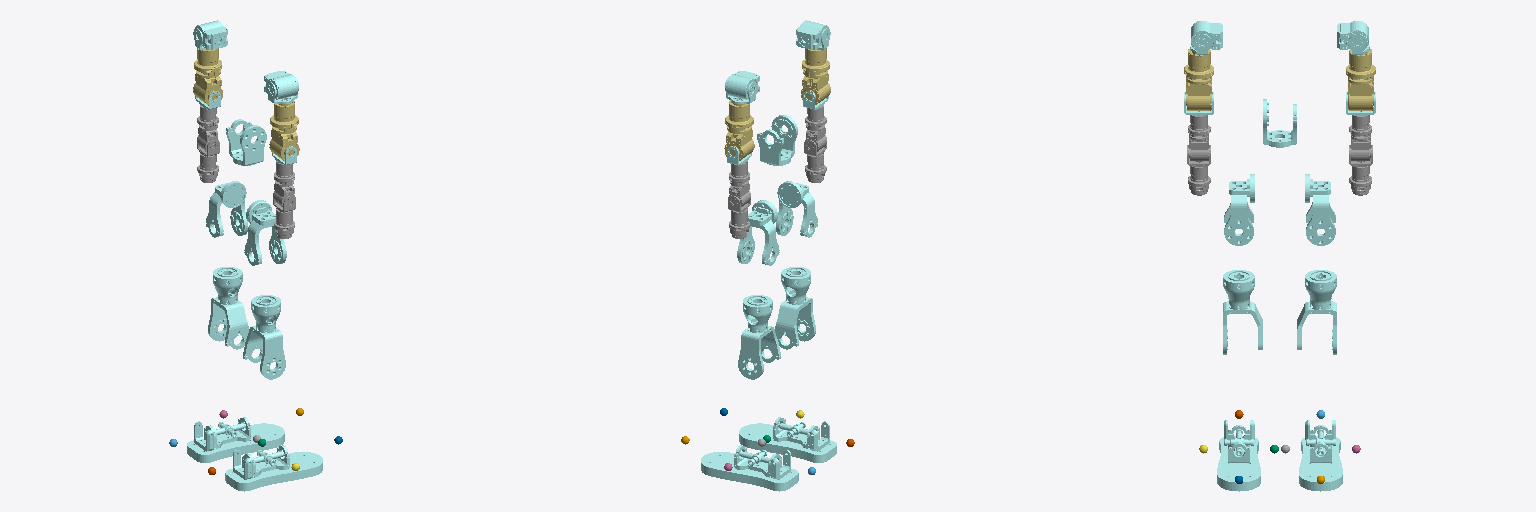
--- What the picture shows (computed from the rendered views, not written in the file) ---
3 views of the same robot in one strip: view 1: azimuth 30°, elevation 25°; view 2: azimuth 150°, elevation 25°; view 3: azimuth 270°, elevation 25° (orthographic).
Robot: ymboy-24dof — 56 links, 55 joints (24 revolute, 31 fixed); root link pelvis; default pose: all joints at 0.
Links seen in each view (by area): view 1: right_ankle_roll_link, left_ankle_roll_link, right_hip_yaw_link, left_hip_yaw_link, left_hip_pitch_link, right_hip_pitch_link, right_wrist_yaw_link, left_wrist_yaw_link, waist_yaw_link, right_shoulder_yaw_link, left_shoulder_yaw_link, right_shoulder_pitch_link (+1 smaller); view 2: left_ankle_roll_link, right_ankle_roll_link, left_hip_yaw_link, right_hip_yaw_link, right_hip_pitch_link, left_hip_pitch_link, waist_yaw_link, left_wrist_yaw_link, right_wrist_yaw_link, left_shoulder_yaw_link, right_shoulder_yaw_link, right_shoulder_pitch_link (+1 smaller); view 3: left_ankle_roll_link, right_ankle_roll_link, left_hip_yaw_link, right_hip_yaw_link, left_hip_pitch_link, right_hip_pitch_link, left_wrist_yaw_link, right_wrist_yaw_link, left_shoulder_yaw_link, right_shoulder_yaw_link, waist_yaw_link, left_shoulder_pitch_link (+1 smaller).
Boxes of the visible links, bbox=[...] form: right_ankle_roll_link: bbox=[225, 445, 322, 491]; left_ankle_roll_link: bbox=[187, 417, 284, 462]; right_hip_yaw_link: bbox=[243, 295, 285, 379]; left_hip_yaw_link: bbox=[208, 267, 248, 349]; left_hip_pitch_link: bbox=[206, 181, 247, 237]; right_hip_pitch_link: bbox=[244, 200, 286, 265]; right_wrist_yaw_link: bbox=[273, 161, 295, 238]; left_wrist_yaw_link: bbox=[197, 105, 219, 182]; waist_yaw_link: bbox=[226, 119, 266, 165]; right_shoulder_yaw_link: bbox=[269, 99, 299, 160]; left_shoulder_yaw_link: bbox=[193, 48, 222, 105]; right_shoulder_pitch_link: bbox=[264, 71, 297, 99]; left_ankle_roll_link: bbox=[701, 445, 798, 491]; right_ankle_roll_link: bbox=[739, 417, 836, 462]; left_hip_yaw_link: bbox=[738, 295, 780, 379]; right_hip_yaw_link: bbox=[775, 267, 815, 349]; right_hip_pitch_link: bbox=[776, 181, 817, 237]; left_hip_pitch_link: bbox=[737, 200, 779, 265]; waist_yaw_link: bbox=[757, 115, 797, 165]; left_wrist_yaw_link: bbox=[728, 161, 750, 238]; right_wrist_yaw_link: bbox=[804, 105, 826, 182]; left_shoulder_yaw_link: bbox=[724, 99, 754, 160]; right_shoulder_yaw_link: bbox=[801, 48, 830, 104]; right_shoulder_pitch_link: bbox=[796, 20, 828, 49]; left_ankle_roll_link: bbox=[1299, 420, 1342, 491]; right_ankle_roll_link: bbox=[1217, 420, 1260, 491]; left_hip_yaw_link: bbox=[1297, 270, 1336, 354]; right_hip_yaw_link: bbox=[1223, 270, 1262, 354]; left_hip_pitch_link: bbox=[1305, 174, 1335, 245]; right_hip_pitch_link: bbox=[1224, 174, 1254, 245]; left_wrist_yaw_link: bbox=[1349, 115, 1372, 195]; right_wrist_yaw_link: bbox=[1187, 115, 1210, 195]; left_shoulder_yaw_link: bbox=[1346, 49, 1375, 110]; right_shoulder_yaw_link: bbox=[1184, 49, 1213, 110]; waist_yaw_link: bbox=[1263, 99, 1296, 147]; left_shoulder_pitch_link: bbox=[1337, 21, 1368, 49].
Bounding box of the posed robot: 0.37 × 0.4335 × 1.09 m (x, y, z).
19 mesh visuals loaded from 25 distinct referenced files (19 binary STL); not drawn: 6 (reference not matched to a file when rendering).

robot.urdf — ymboy-24dof:
<?xml version="1.0" encoding="utf-8"?>
<robot
  name="ymboy-24dof">
  <mujoco>
    <compiler meshdir="../meshes/" discardvisual="false"/>
  </mujoco>
  <link
    name="pelvis">
    <inertial>
      <origin
        xyz="-3.3339E-05 -1.0813E-06 0.091155"
        rpy="0 0 0" />
      <mass
        value="2.8438" />
      <inertia
        ixx="0.01047867"
        ixy="-8E-08"
        ixz="3.95E-06"
        iyy="0.00941324"
        iyz="1.3E-07"
        izz="0.00564707" />
    </inertial>
    <visual>
      <origin
        xyz="0 0 0"
        rpy="0 0 0" />
      <geometry>
        <mesh
          filename="../meshes/pelvis.STL" />
      </geometry>
      <material
        name="">
        <color
          rgba="0.75294 1 1 1" />
      </material>
    </visual>
    <collision>
      <origin
        xyz="0 0 0"
        rpy="0 0 0" />
      <geometry>
        <mesh
          filename="../meshes/pelvis.STL" />
      </geometry>
    </collision>
  </link>
  <link
    name="left_hip_pitch_link">
    <inertial>
      <origin
        xyz="0.0026859 0.030181 -0.038307"
        rpy="0 0 0" />
      <mass
        value="0.47307" />
      <inertia
        ixx="0.00092108"
        ixy="-8.03E-06"
        ixz="8.425E-05"
        iyy="0.00111312"
        iyz="0.0001145"
        izz="0.00048142" />
    </inertial>
    <visual>
      <origin
        xyz="0 0 0"
        rpy="0 0 0" />
      <geometry>
        <mesh
          filename="../meshes/left_hip_pitch_link.STL" />
      </geometry>
      <material
        name="">
        <color
          rgba="0.75294 1 1 1" />
      </material>
    </visual>
    <collision>
      <origin
        xyz="0 0 0"
        rpy="0 0 0" />
      <geometry>
        <mesh
          filename="../meshes/left_hip_pitch_link.STL" />
      </geometry>
    </collision>
  </link>
  <joint
    name="left_hip_pitch_joint"
    type="revolute">
    <origin
      xyz="0 0.056 0.0605"
      rpy="0 0 0" />
    <parent
      link="pelvis" />
    <child
      link="left_hip_pitch_link" />
    <axis
      xyz="0 1 0" />
    <limit
      lower="-2.5"
      upper="2.5"
      effort="94"
      velocity="14" />
  </joint>
  <link
    name="left_hip_roll_link">
    <inertial>
      <origin
        xyz="0.00077985 -7.5152E-06 -0.043617"
        rpy="0 0 0" />
      <mass
        value="1.7024" />
      <inertia
        ixx="0.00593201"
        ixy="-2.4E-07"
        ixz="7.611E-05"
        iyy="0.00560799"
        iyz="-2.1E-07"
        izz="0.00196237" />
    </inertial>
    <visual>
      <origin
        xyz="0 0 0"
        rpy="0 0 0" />
      <geometry>
        <mesh
          filename="../meshes/left_hip_roll_link.STL" />
      </geometry>
      <material
        name="">
        <color
          rgba="0.69804 0.69804 0.69804 1" />
      </material>
    </visual>
    <collision>
      <origin
        xyz="0 0 0"
        rpy="0 0 0" />
      <geometry>
        <mesh
          filename="../meshes/left_hip_roll_link.STL" />
      </geometry>
    </collision>
  </link>
  <joint
    name="left_hip_roll_joint"
    type="revolute">
    <origin
      xyz="0 0.0365 -0.092"
      rpy="0 0 0" />
    <parent
      link="left_hip_pitch_link" />
    <child
      link="left_hip_roll_link" />
    <axis
      xyz="1 0 0" />
    <limit
      lower="-0.5"
      upper="2.5"
      effort="94"
      velocity="14" />
  </joint>
  <link
    name="left_hip_yaw_link">
    <inertial>
      <origin
        xyz="7.7235E-09 -0.00090373 -0.083991"
        rpy="0 0 0" />
      <mass
        value="0.61055" />
      <inertia
        ixx="0.00236125"
        ixy="0"
        ixz="0"
        iyy="0.00202273"
        iyz="6.56E-06"
        izz="0.00073247" />
    </inertial>
    <visual>
      <origin
        xyz="0 0 0"
        rpy="0 0 0" />
      <geometry>
        <mesh
          filename="../meshes/left_hip_yaw_link.STL" />
      </geometry>
      <material
        name="">
        <color
          rgba="0.75294 1 1 1" />
      </material>
    </visual>
    <collision>
      <origin
        xyz="0 0 0"
        rpy="0 0 0" />
      <geometry>
        <mesh
          filename="../meshes/left_hip_yaw_link.STL" />
      </geometry>
    </collision>
  </link>
  <joint
    name="left_hip_yaw_joint"
    type="revolute">
    <origin
      xyz="0.00175 0 -0.1245"
      rpy="0 0 0" />
    <parent
      link="left_hip_roll_link" />
    <child
      link="left_hip_yaw_link" />
    <axis
      xyz="0 0 1" />
    <limit
      lower="-2.5"
      upper="2.5"
      effort="60"
      velocity="14" />
  </joint>
  <link
    name="left_knee_link">
    <inertial>
      <origin
        xyz="-0.0024699 0.00032626 -0.075501"
        rpy="0 0 0" />
      <mass
        value="2.9443" />
      <inertia
        ixx="0.02349646"
        ixy="3.873E-05"
        ixz="-0.00076052"
        iyy="0.02465377"
        iyz="-0.0001571"
        izz="0.00339227" />
    </inertial>
    <visual>
      <origin
        xyz="0 0 0"
        rpy="0 0 0" />
      <geometry>
        <mesh
          filename="../meshes/left_knee_link.STL" />
      </geometry>
      <material
        name="">
        <color
          rgba="0.69804 0.69804 0.69804 1" />
      </material>
    </visual>
    <collision>
      <origin
        xyz="0 0 0"
        rpy="0 0 0" />
      <geometry>
        <mesh
          filename="../meshes/left_knee_link.STL" />
      </geometry>
    </collision>
  </link>
  <joint
    name="left_knee_joint"
    type="revolute">
    <origin
      xyz="0 0 -0.1605"
      rpy="0 0 0" />
    <parent
      link="left_hip_yaw_link" />
    <child
      link="left_knee_link" />
    <axis
      xyz="0 1 0" />
    <limit
      lower="-2.5"
      upper="2.5"
      effort="150"
      velocity="13" />
  </joint>
  <link
    name="left_ankle_pitch_link">
    <inertial>
      <origin
        xyz="-1.1905E-08 -3.0215E-11 -7.7016E-10"
        rpy="0 0 0" />
      <mass
        value="0.023877" />
      <inertia
        ixx="9.56E-06"
        ixy="0"
        ixz="0"
        iyy="6.2E-07"
        iyz="0"
        izz="9.58E-06" />
    </inertial>
    <visual>
      <origin
        xyz="0 0 0"
        rpy="0 0 0" />
      <geometry>
        <mesh
          filename="../meshes/left_ankle_pitch_link.STL" />
      </geometry>
      <material
        name="">
        <color
          rgba="0.75294 1 1 1" />
      </material>
    </visual>
    <!-- <collision>
      <origin
        xyz="0 0 0"
        rpy="0 0 0" />
      <geometry>
        <mesh
          filename="../meshes/left_ankle_pitch_link.STL" />
      </geometry>
    </collision> -->
  </link>
  <joint
    name="left_ankle_pitch_joint"
    type="revolute">
    <origin
      xyz="-4.3311E-05 0 -0.257"
      rpy="0 0.00016853 0" />
    <parent
      link="left_knee_link" />
    <child
      link="left_ankle_pitch_link" />
    <axis
      xyz="0 1 0" />
    <limit
      lower="-0.55"
      upper="0.55"
      effort="60"
      velocity="8" />
  </joint>
  <link
    name="left_ankle_roll_link">
    <inertial>
      <origin
        xyz="0.016184 -9.3563E-10 -0.033038"
        rpy="0 0 0" />
      <mass
        value="1.1614" />
      <inertia
        ixx="0.00090303"
        ixy="0"
        ixz="0.00023861"
        iyy="0.0053827"
        iyz="0"
        izz="0.00583125" />
    </inertial>
    <visual>
      <origin
        xyz="0 0 0"
        rpy="0 0 0" />
      <geometry>
        <mesh
          filename="../meshes/left_ankle_roll_link.STL" />
      </geometry>
      <material
        name="">
        <color
          rgba="0.75294 1 1 1" />
      </material>
    </visual>
    <!-- <collision>
      <origin
        xyz="0 0 0"
        rpy="0 0 0" />
      <geometry>
        <mesh
          filename="../meshes/left_ankle_roll_link.STL" />
      </geometry>
    </collision> -->
    <collision>
      <origin xyz="-0.05 0.05 -0.04" rpy="0 0 0"/>
      <geometry>
        <sphere radius="0.005"/>
      </geometry>
    </collision>
    <collision>
      <origin xyz="-0.05 -0.05 -0.04" rpy="0 0 0"/>
      <geometry>
        <sphere radius="0.005"/>
      </geometry>
    </collision>
    <collision>
      <origin xyz="0.12 0.055 -0.04" rpy="0 0 0"/>
      <geometry>
        <sphere radius="0.005"/>
      </geometry>
    </collision>
    <collision>
      <origin xyz="0.12 -0.055 -0.04" rpy="0 0 0"/>
      <geometry>
        <sphere radius="0.005"/>
      </geometry>
    </collision>
    <collision>
      <origin xyz="0.05 -0.06 -0.04" rpy="0 0 0"/>
      <geometry>
        <sphere radius="0.005"/>
      </geometry>
    </collision>
    <collision>
      <origin xyz="0.05 0.06 -0.04" rpy="0 0 0"/>
      <geometry>
        <sphere radius="0.005"/>
      </geometry>
    </collision>

    <collision>
      <origin xyz="0.14 -0.0 -0.04" rpy="0 0 0"/>
      <geometry>
        <sphere radius="0.005"/>
      </geometry>
    </collision>
    <collision>
      <origin xyz="-0.11 -0.0 -0.04" rpy="0 0 0"/>
      <geometry>
        <sphere radius="0.005"/>
      </geometry>
    </collision>
    <collision>
      <origin xyz="0.1 -0.0 -0.02" rpy="0 0 0"/>
      <geometry>
        <sphere radius="0.005"/>
      </geometry>
    </collision>

    <collision>
      <origin xyz="0.165 -0.0 -0.04" rpy="0 0 0"/>
      <geometry>
        <sphere radius="0.005"/>
      </geometry>
    </collision>
  </link>
  <joint
    name="left_ankle_roll_joint"
    type="revolute">
    <origin
      xyz="0 0 0"
      rpy="0 0 0" />
    <parent
      link="left_ankle_pitch_link" />
    <child
      link="left_ankle_roll_link" />
    <axis
      xyz="1 0 0" />
    <limit
      lower="-0.25"
      upper="0.25"
      effort="60"
      velocity="8" />
  </joint>
  <link
    name="right_hip_pitch_link">
    <inertial>
      <origin
        xyz="0.0026859 -0.030181 -0.038307"
        rpy="0 0 0" />
      <mass
        value="0.47307" />
      <inertia
        ixx="0.00092108"
        ixy="8.03E-06"
        ixz="8.425E-05"
        iyy="0.00111312"
        iyz="-0.0001145"
        izz="0.00048142" />
    </inertial>
    <visual>
      <origin
        xyz="0 0 0"
        rpy="0 0 0" />
      <geometry>
        <mesh
          filename="../meshes/right_hip_pitch_link.STL" />
      </geometry>
      <material
        name="">
        <color
          rgba="0.75294 1 1 1" />
      </material>
    </visual>
    <collision>
      <origin
        xyz="0 0 0"
        rpy="0 0 0" />
      <geometry>
        <mesh
          filename="../meshes/right_hip_pitch_link.STL" />
      </geometry>
    </collision>
  </link>
  <joint
    name="right_hip_pitch_joint"
    type="revolute">
    <origin
      xyz="0 -0.056 0.0605"
      rpy="0 0 0" />
    <parent
      link="pelvis" />
    <child
      link="right_hip_pitch_link" />
    <axis
      xyz="0 1 0" />
    <limit
      lower="-2.5"
      upper="2.5"
      effort="94"
      velocity="14" />
  </joint>
  <link
    name="right_hip_roll_link">
    <inertial>
      <origin
        xyz="0.00077985 -7.5152E-06 -0.043617"
        rpy="0 0 0" />
      <mass
        value="1.7024" />
      <inertia
        ixx="0.00593201"
        ixy="-2.4E-07"
        ixz="7.611E-05"
        iyy="0.00560799"
        iyz="-2.1E-07"
        izz="0.00196237" />
    </inertial>
    <visual>
      <origin
        xyz="0 0 0"
        rpy="0 0 0" />
      <geometry>
        <mesh
          filename="../meshes/right_hip_roll_link.STL" />
      </geometry>
      <material
        name="">
        <color
          rgba="0.75294 1 1 1" />
      </material>
    </visual>
    <collision>
      <origin
        xyz="0 0 0"
        rpy="0 0 0" />
      <geometry>
        <mesh
          filename="../meshes/right_hip_roll_link.STL" />
      </geometry>
    </collision>
  </link>
  <joint
    name="right_hip_roll_joint"
    type="revolute">
    <origin
      xyz="0 -0.0365 -0.092"
      rpy="0 0 0" />
    <parent
      link="right_hip_pitch_link" />
    <child
      link="right_hip_roll_link" />
    <axis
      xyz="1 0 0" />
    <limit
      lower="-2.5"
      upper="0.5"
      effort="94"
      velocity="14" />
  </joint>
  <link
    name="right_hip_yaw_link">
    <inertial>
      <origin
        xyz="7.8127E-09 0.00090374 -0.083991"
        rpy="0 0 0" />
      <mass
        value="0.61055" />
      <inertia
        ixx="0.00236125"
        ixy="0"
        ixz="0"
        iyy="0.00202273"
        iyz="-6.56E-06"
        izz="0.00073247" />
    </inertial>
    <visual>
      <origin
        xyz="0 0 0"
        rpy="0 0 0" />
      <geometry>
        <mesh
          filename="../meshes/right_hip_yaw_link.STL" />
      </geometry>
      <material
        name="">
        <color
          rgba="0.75294 1 1 1" />
      </material>
    </visual>
    <collision>
      <origin
        xyz="0 0 0"
        rpy="0 0 0" />
      <geometry>
        <mesh
          filename="../meshes/right_hip_yaw_link.STL" />
      </geometry>
    </collision>
  </link>
  <joint
    name="right_hip_yaw_joint"
    type="revolute">
    <origin
      xyz="0.00175 0 -0.1245"
      rpy="0 0 0" />
    <parent
      link="right_hip_roll_link" />
    <child
      link="right_hip_yaw_link" />
    <axis
      xyz="0 0 1" />
    <limit
      lower="-2.5"
      upper="2.5"
      effort="60"
      velocity="13" />
  </joint>
  <link
    name="right_knee_link">
    <inertial>
      <origin
        xyz="-0.0024694 -0.00032626 -0.0755"
        rpy="0 0 0" />
      <mass
        value="2.9443" />
      <inertia
        ixx="0.02349561"
        ixy="-3.885E-05"
        ixz="-0.00076039"
        iyy="0.0246529"
        iyz="0.0001571"
        izz="0.00339225" />
    </inertial>
    <visual>
      <origin
        xyz="0 0 0"
        rpy="0 0 0" />
      <geometry>
        <mesh
          filename="../meshes/right_knee_link.STL" />
      </geometry>
      <material
        name="">
        <color
          rgba="0.69804 0.69804 0.69804 1" />
      </material>
    </visual>
    <collision>
      <origin
        xyz="0 0 0"
        rpy="0 0 0" />
      <geometry>
        <mesh
          filename="../meshes/right_knee_link.STL" />
      </geometry>
    </collision>
  </link>
  <joint
    name="right_knee_joint"
    type="revolute">
    <origin
      xyz="0 0 -0.1605"
      rpy="0 0 0" />
    <parent
      link="right_hip_yaw_link" />
    <child
      link="right_knee_link" />
    <axis
      xyz="0 1 0" />
    <limit
      lower="-2.5"
      upper="2.5"
      effort="150"
      velocity="13" />
  </joint>
  <link
    name="right_ankle_pitch_link">
    <inertial>
      <origin
        xyz="-1.1905E-08 -3.0218E-11 -7.7016E-10"
        rpy="0 0 0" />
      <mass
        value="0.023877" />
      <inertia
        ixx="9.56E-06"
        ixy="0"
        ixz="0"
        iyy="6.2E-07"
        iyz="0"
        izz="9.58E-06" />
    </inertial>
    <visual>
      <origin
        xyz="0 0 0"
        rpy="0 0 0" />
      <geometry>
        <mesh
          filename="../meshes/right_ankle_pitch_link.STL" />
      </geometry>
      <material
        name="">
        <color
          rgba="0.75294 1 1 1" />
      </material>
    </visual>
    <!-- <collision>
      <origin
        xyz="0 0 0"
        rpy="0 0 0" />
      <geometry>
        <mesh
          filename="../meshes/right_ankle_pitch_link.STL" />
      </geometry>
    </collision> -->
  </link>
  <joint
    name="right_ankle_pitch_joint"
    type="revolute">
    <origin
      xyz="-4.3311E-05 0 -0.257"
      rpy="0 0.00016853 0" />
    <parent
      link="right_knee_link" />
    <child
      link="right_ankle_pitch_link" />
    <axis
      xyz="0 1 0" />
    <limit
      lower="-0.55"
      upper="0.55"
      effort="60"
      velocity="8" />
  </joint>
  <link
    name="right_ankle_roll_link">
    <inertial>
      <origin
        xyz="0.016184 -9.3564E-10 -0.033038"
        rpy="0 0 0" />
      <mass
        value="1.1614" />
      <inertia
        ixx="0.00090303"
        ixy="0"
        ixz="0.00023861"
        iyy="0.0053827"
        iyz="0"
        izz="0.00583125" />
    </inertial>
    <visual>
      <origin
        xyz="0 0 0"
        rpy="0 0 0" />
      <geometry>
        <mesh
          filename="../meshes/right_ankle_roll_link.STL" />
      </geometry>
      <material
        name="">
        <color
          rgba="0.75294 1 1 1" />
      </material>
    </visual>
    <!-- <collision>
      <origin
        xyz="0 0 0"
        rpy="0 0 0" />
      <geometry>
        <mesh
          filename="../meshes/right_ankle_roll_link.STL" />
      </geometry>
    </collision> -->
    <collision>
      <origin xyz="-0.05 0.05 -0.04" rpy="0 0 0"/>
      <geometry>
        <sphere radius="0.005"/>
      </geometry>
    </collision>
    <collision>
      <origin xyz="-0.05 -0.05 -0.04" rpy="0 0 0"/>
      <geometry>
        <sphere radius="0.005"/>
      </geometry>
    </collision>
    <collision>
      <origin xyz="0.12 0.055 -0.04" rpy="0 0 0"/>
      <geometry>
        <sphere radius="0.005"/>
      </geometry>
    </collision>
    <collision>
      <origin xyz="0.12 -0.055 -0.04" rpy="0 0 0"/>
      <geometry>
        <sphere radius="0.005"/>
      </geometry>
    </collision>
    <collision>
      <origin xyz="0.05 -0.06 -0.04" rpy="0 0 0"/>
      <geometry>
        <sphere radius="0.005"/>
      </geometry>
    </collision>
    <collision>
      <origin xyz="0.05 0.06 -0.04" rpy="0 0 0"/>
      <geometry>
        <sphere radius="0.005"/>
      </geometry>
    </collision>

    <collision>
      <origin xyz="0.14 -0.0 -0.04" rpy="0 0 0"/>
      <geometry>
        <sphere radius="0.005"/>
      </geometry>
    </collision>
    <collision>
      <origin xyz="-0.11 -0.0 -0.04" rpy="0 0 0"/>
      <geometry>
        <sphere radius="0.005"/>
      </geometry>
    </collision>
    <collision>
      <origin xyz="0.1 -0.0 -0.02" rpy="0 0 0"/>
      <geometry>
        <sphere radius="0.005"/>
      </geometry>
    </collision>

    <collision>
      <origin xyz="0.165 -0.0 -0.04" rpy="0 0 0"/>
      <geometry>
        <sphere radius="0.005"/>
      </geometry>
    </collision>
  </link>
  <joint
    name="right_ankle_roll_joint"
    type="revolute">
    <origin
      xyz="0 0 0"
      rpy="0 0 0" />
    <parent
      link="right_ankle_pitch_link" />
    <child
      link="right_ankle_roll_link" />
    <axis
      xyz="1 0 0" />
    <limit
      lower="-0.25"
      upper="0.25"
      effort="60"
      velocity="8" />
  </joint>
  <link
    name="waist_yaw_link">
    <inertial>
      <origin
        xyz="-8.6742E-09 -0.0035731 0.038467"
        rpy="0 0 0" />
      <mass
        value="0.33855" />
      <inertia
        ixx="0.00059365"
        ixy="0"
        ixz="0"
        iyy="0.00038188"
        iyz="5.297E-05"
        izz="0.00041589" />
    </inertial>
    <visual>
      <origin
        xyz="0 0 0"
        rpy="0 0 0" />
      <geometry>
        <mesh
          filename="../meshes/waist_yaw_link.STL" />
      </geometry>
      <material
        name="">
        <color
          rgba="0.75294 1 1 1" />
      </material>
    </visual>
    <collision>
      <origin
        xyz="0 0 0"
        rpy="0 0 0" />
      <geometry>
        <mesh
          filename="../meshes/waist_yaw_link.STL" />
      </geometry>
    </collision>
  </link>
  <joint
    name="waist_yaw_joint"
    type="revolute">
    <origin
      xyz="0 0 0.177"
      rpy="0 0 0" />
    <parent
      link="pelvis" />
    <child
      link="waist_yaw_link" />
    <axis
      xyz="0 0 1" />
    <limit
      lower="-2.5"
      upper="2.5"
      effort="94"
      velocity="14" />
  </joint>
  <link
    name="torso_link">
    <inertial>
      <origin
        xyz="-0.0028374 1.8764E-05 0.11742"
        rpy="0 0 0" />
      <mass
        value="8.4343" />
      <inertia
        ixx="0.05386501"
        ixy="5.861E-05"
        ixz="-0.00096421"
        iyy="0.04829131"
        iyz="-0.00014315"
        izz="0.03221841" />
    </inertial>
    <visual>
      <origin
        xyz="0 0 0"
        rpy="0 0 0" />
      <geometry>
        <mesh
          filename="../meshes/torso_link.STL" />
      </geometry>
      <material
        name="">
        <color
          rgba="0.69804 0.69804 0.69804 1" />
      </material>
    </visual>
    <collision>
      <origin
        xyz="0 0 0"
        rpy="0 0 0" />
      <geometry>
        <mesh
          filename="../meshes/torso_link.STL" />
      </geometry>
    </collision>
  </link>
  <joint
    name="waist_pitch_joint"
    type="revolute">
    <origin
      xyz="0 0 0.069"
      rpy="0 0 0" />
    <parent
      link="waist_yaw_link" />
    <child
      link="torso_link" />
    <axis
      xyz="0 1 0" />
    <limit
      lower="-1.57"
      upper="1.57"
      effort="94"
      velocity="14" />
  </joint>
  <link
    name="left_shoulder_pitch_link">
    <inertial>
      <origin
        xyz="0.021414 0.043756 -7.7846E-11"
        rpy="0 0 0" />
      <mass
        value="0.48864" />
      <inertia
        ixx="0.00016103"
        ixy="-3.426E-05"
        ixz="0"
        iyy="9.344E-05"
        iyz="0"
        izz="0.00014485" />
    </inertial>
    <visual>
      <origin
        xyz="0 0 0"
        rpy="0 0 0" />
      <geometry>
        <mesh
          filename="../meshes/left_shoulder_pitch_link.STL" />
      </geometry>
      <material
        name="">
        <color
          rgba="0.75294 1 1 1" />
      </material>
    </visual>
    <collision>
      <origin
        xyz="0 0 0"
        rpy="0 0 0" />
      <geometry>
        <mesh
          filename="../meshes/left_shoulder_pitch_link.STL" />
      </geometry>
    </collision>
  </link>
  <joint
    name="left_shoulder_pitch_joint"
    type="revolute">
    <origin
      xyz="0 0.12875 0.1945"
      rpy="0 0 0" />
    <parent
      link="torso_link" />
    <child
      link="left_shoulder_pitch_link" />
    <axis
      xyz="0 1 0" />
    <limit
      lower="-2.57"
      upper="2.57"
      effort="12"
      velocity="5" />
  </joint>
  <link
    name="left_shoulder_roll_link">
    <inertial>
      <origin
        xyz="2.2968E-15 0.0016422 -0.019214"
        rpy="0 0 0" />
      <mass
        value="0.053968" />
      <inertia
        ixx="1.8069E-05"
        ixy="2.8391E-20"
        ixz="1.641E-20"
        iyy="4.6417E-05"
        iyz="-9.6777E-07"
        izz="4.1079E-05" />
    </inertial>
    <visual>
      <origin
        xyz="0 0 0"
        rpy="0 0 0" />
      <geometry>
        <mesh
          filename="../meshes/left_shoulder_roll_link.STL" />
      </geometry>
      <material
        name="">
        <color
          rgba="0.75294 1 1 1" />
      </material>
    </visual>
    <collision>
      <origin
        xyz="0 0 0"
        rpy="0 0 0" />
      <geometry>
        <mesh
          filename="../meshes/left_shoulder_roll_link.STL" />
      </geometry>
    </collision>
  </link>
  <joint
    name="left_shoulder_roll_joint"
    type="revolute">
    <origin
      xyz="0 0.047 0"
      rpy="0 0 0" />
    <parent
      link="left_shoulder_pitch_link" />
    <child
      link="left_shoulder_roll_link" />
    <axis
      xyz="1 0 0" />
    <limit
      lower="-0.1"
      upper="3.14"
      effort="12"
      velocity="5" />
  </joint>
  <link
    name="left_shoulder_yaw_link">
    <inertial>
      <origin
        xyz="2.3458E-05 0.010492 -0.079775"
        rpy="0 0 0" />
      <mass
        value="0.99729" />
      <inertia
        ixx="0.00221488"
        ixy="2.4E-07"
        ixz="-6.2E-07"
        iyy="0.00211341"
        iyz="0.00046727"
        izz="0.00040755" />
    </inertial>
    <visual>
      <origin
        xyz="0 0 0"
        rpy="0 0 0" />
      <geometry>
        <mesh
          filename="../meshes/left_shoulder_yaw_link.STL" />
      </geometry>
      <material
        name="">
        <color
          rgba="0.8549 0.80392 0.52941 1" />
      </material>
    </visual>
    <collision>
      <origin
        xyz="0 0 0"
        rpy="0 0 0" />
      <geometry>
        <mesh
          filename="../meshes/left_shoulder_yaw_link.STL" />
      </geometry>
    </collision>
  </link>
  <joint
    name="left_shoulder_yaw_joint"
    type="revolute">
    <origin
      xyz="0 0.007 -0.033"
      rpy="0 0 0" />
    <parent
      link="left_shoulder_roll_link" />
    <child
      link="left_shoulder_yaw_link" />
    <axis
      xyz="0 0 1" />
    <limit
      lower="-2.57"
      upper="2.57"
      effort="12"
      velocity="5" />
  </joint>
  <link
    name="left_elbow_link">
    <inertial>
      <origin
        xyz="0 8.3267E-17 -0.02168"
        rpy="0 0 0" />
      <mass
        value="0.047607" />
      <inertia
        ixx="3.565E-05"
        ixy="3.661E-21"
        ixz="3.9684E-21"
        iyy="1.1477E-05"
        iyz="6.8173E-20"
        izz="3.3394E-05" />
    </inertial>
    <visual>
      <origin
        xyz="0 0 0"
        rpy="0 0 0" />
      <geometry>
        <mesh
          filename="../meshes/left_elbow_link.STL" />
      </geometry>
      <material
        name="">
        <color
          rgba="0.75294 1 1 1" />
      </material>
    </visual>
    <collision>
      <origin
        xyz="0 0 0"
        rpy="0 0 0" />
      <geometry>
        <mesh
          filename="../meshes/left_elbow_link.STL" />
      </geometry>
    </collision>
  </link>
  <joint
    name="left_elbow_joint"
    type="revolute">
    <origin
      xyz="0 0 -0.1244"
      rpy="0 0 0" />
    <parent
      link="left_shoulder_yaw_link" />
    <child
      link="left_elbow_link" />
    <axis
      xyz="0 1 0" />
    <limit
      lower="-2"
      upper="2"
      effort="12"
      velocity="5" />
  </joint>
  <link
    name="left_wrist_yaw_link">
    <inertial>
      <origin
        xyz="-1.211E-08 0.0015412 -0.095114"
        rpy="0 0 0" />
      <mass
        value="0.74918" />
      <inertia
        ixx="0.00235166"
        ixy="0"
        ixz="1.17E-06"
        iyy="0.00234442"
        iyz="6.14E-06"
        izz="0.00018441" />
    </inertial>
    <visual>
      <origin
        xyz="0 0 0"
        rpy="0 0 0" />
      <geometry>
        <mesh
          filename="../meshes/left_wrist_yaw_link.STL" />
      </geometry>
      <material
        name="">
        <color
          rgba="0.69804 0.69804 0.69804 1" />
      </material>
    </visual>
    <collision>
      <origin
        xyz="0 0 0"
        rpy="0 0 0" />
      <geometry>
        <mesh
          filename="../meshes/left_wrist_yaw_link.STL" />
      </geometry>
    </collision>
  </link>
  <joint
    name="left_wrist_yaw_joint"
    type="revolute">
    <origin
      xyz="0 0 -0.034"
      rpy="0 0 0" />
    <parent
      link="left_elbow_link" />
    <child
      link="left_wrist_yaw_link" />
    <axis
      xyz="0 0 1" />
    <limit
      lower="-2.57"
      upper="2.57"
      effort="6"
      velocity="5" />
  </joint>
  <link
    name="right_shoulder_pitch_link">
    <inertial>
      <origin
        xyz="-0.021414 -0.043756 -7.7846E-11"
        rpy="0 0 0" />
      <mass
        value="0.48864" />
      <inertia
        ixx="0.00016103"
        ixy="-3.426E-05"
        ixz="0"
        iyy="9.344E-05"
        iyz="0"
        izz="0.00014485" />
    </inertial>
    <visual>
      <origin
        xyz="0 0 0"
        rpy="0 0 0" />
      <geometry>
        <mesh
          filename="../meshes/right_shoulder_pitch_link.STL" />
      </geometry>
      <material
        name="">
        <color
          rgba="0.75294 1 1 1" />
      </material>
    </visual>
    <collision>
      <origin
        xyz="0 0 0"
        rpy="0 0 0" />
      <geometry>
        <mesh
          filename="../meshes/right_shoulder_pitch_link.STL" />
      </geometry>
    </collision>
  </link>
  <joint
    name="right_shoulder_pitch_joint"
    type="revolute">
    <origin
      xyz="0 -0.12875 0.1945"
      rpy="0 0 0" />
    <parent
      link="torso_link" />
    <child
      link="right_shoulder_pitch_link" />
    <axis
      xyz="0 1 0" />
     <limit
      lower="-2.57"
      upper="2.57"
      effort="12"
      velocity="5" />
  </joint>
  <link
    name="right_shoulder_roll_link">
    <inertial>
      <origin
        xyz="1.1102E-16 -0.0016422 -0.019214"
        rpy="0 0 0" />
      <mass
        value="0.053968" />
      <inertia
        ixx="1.8069E-05"
        ixy="1.0344E-21"
        ixz="6.3703E-20"
        iyy="4.6417E-05"
        iyz="9.6777E-07"
        izz="4.1079E-05" />
    </inertial>
    <visual>
      <origin
        xyz="0 0 0"
        rpy="0 0 0" />
      <geometry>
        <mesh
          filename="../meshes/right_shoulder_roll_link.STL" />
      </geometry>
      <material
        name="">
        <color
          rgba="0.75294 1 1 1" />
      </material>
    </visual>
    <collision>
      <origin
        xyz="0 0 0"
        rpy="0 0 0" />
      <geometry>
        <mesh
          filename="../meshes/right_shoulder_roll_link.STL" />
      </geometry>
    </collision>
  </link>
  <joint
    name="right_shoulder_roll_joint"
    type="revolute">
    <origin
      xyz="0 -0.047 0"
      rpy="0 0 0" />
    <parent
      link="right_shoulder_pitch_link" />
    <child
      link="right_shoulder_roll_link" />
    <axis
      xyz="1 0 0" />
    <limit
      lower="-3.14"
      upper="0.1"
      effort="12"
      velocity="5" />
  </joint>
  <link
    name="right_shoulder_yaw_link">
    <inertial>
      <origin
        xyz="-2.3457E-05 0.010492 -0.079775"
        rpy="0 0 0" />
      <mass
        value="0.99729" />
      <inertia
        ixx="0.00221488"
        ixy="-2.5E-07"
        ixz="6.2E-07"
        iyy="0.00211341"
        iyz="0.00046727"
        izz="0.00040755" />
    </inertial>
    <visual>
      <origin
        xyz="0 0 0"
        rpy="0 0 0" />
      <geometry>
        <mesh
          filename="../meshes/right_shoulder_yaw_link.STL" />
      </geometry>
      <material
        name="">
        <color
          rgba="0.8549 0.80392 0.52941 1" />
      </material>
    </visual>
    <collision>
      <origin
        xyz="0 0 0"
        rpy="0 0 0" />
      <geometry>
        <mesh
          filename="../meshes/right_shoulder_yaw_link.STL" />
      </geometry>
    </collision>
  </link>
  <joint
    name="right_shoulder_yaw_joint"
    type="revolute">
    <origin
      xyz="0 -0.007 -0.033"
      rpy="0 0 0" />
    <parent
      link="right_shoulder_roll_link" />
    <child
      link="right_shoulder_yaw_link" />
    <axis
      xyz="0 0 1" />
    <limit
      lower="-2.57"
      upper="2.57"
      effort="12"
      velocity="5" />
  </joint>
  <link
    name="right_elbow_link">
    <inertial>
      <origin
        xyz="-4.8572E-17 0 -0.02168"
        rpy="0 0 0" />
      <mass
        value="0.047607" />
      <inertia
        ixx="3.565E-05"
        ixy="1.3905E-21"
        ixz="3.189E-21"
        iyy="1.1477E-05"
        iyz="-1.6076E-20"
        izz="3.3394E-05" />
    </inertial>
    <visual>
      <origin
        xyz="0 0 0"
        rpy="0 0 0" />
      <geometry>
        <mesh
          filename="../meshes/right_elbow_link.STL" />
      </geometry>
      <material
        name="">
        <color
          rgba="0.75294 1 1 1" />
      </material>
    </visual>
    <collision>
      <origin
        xyz="0 0 0"
        rpy="0 0 0" />
      <geometry>
        <mesh
          filename="../meshes/right_elbow_link.STL" />
      </geometry>
    </collision>
  </link>
  <joint
    name="right_elbow_joint"
    type="revolute">
    <origin
      xyz="0 0 -0.1244"
      rpy="0 0 0" />
    <parent
      link="right_shoulder_yaw_link" />
    <child
      link="right_elbow_link" />
    <axis
      xyz="0 1 0" />
    <limit
      lower="-2"
      upper="2"
      effort="12"
      velocity="5" />
  </joint>
  <link
    name="right_wrist_yaw_link">
    <inertial>
      <origin
        xyz="-1.211E-08 0.0015412 -0.095114"
        rpy="0 0 0" />
      <mass
        value="0.74918" />
      <inertia
        ixx="0.00235166"
        ixy="0"
        ixz="1.17E-06"
        iyy="0.00234442"
        iyz="6.14E-06"
        izz="0.00018441" />
    </inertial>
    <visual>
      <origin
        xyz="0 0 0"
        rpy="0 0 0" />
      <geometry>
        <mesh
          filename="../meshes/right_wrist_yaw_link.STL" />
      </geometry>
      <material
        name="">
        <color
          rgba="0.69804 0.69804 0.69804 1" />
      </material>
    </visual>
    <collision>
      <origin
        xyz="0 0 0"
        rpy="0 0 0" />
      <geometry>
        <mesh
          filename="../meshes/right_wrist_yaw_link.STL" />
      </geometry>
    </collision>
  </link>
  <joint
    name="right_wrist_yaw_joint"
    type="revolute">
    <origin
      xyz="0 0 -0.034"
      rpy="0 0 0" />
    <parent
      link="right_elbow_link" />
    <child
      link="right_wrist_yaw_link" />
    <axis
      xyz="0 0 1" />
    <limit
      lower="-2.57"
      upper="2.57"
      effort="6"
      velocity="5" />
  </joint>

  <!-- Keyframe -->
  <link name="keyframe_head_link">
    <!-- <visual>
      <origin xyz="0 0 0" rpy="0 0 0"/>
      <geometry>
        <sphere radius="0.05"/>
      </geometry>
    </visual> -->
  </link>
  <joint name="keyframe_head_joint" type="fixed" dont_collapse="true">
    <origin xyz="0 0 0.45" rpy="0 0 0"/>
    <parent link="torso_link"/>
    <child link="keyframe_head_link"/>
  </joint>
  <link name="keyframe_torso_link">
    <!-- <visual>
      <origin xyz="0 0 0" rpy="0 0 0"/>
      <geometry>
        <sphere radius="0.05"/>
      </geometry>
    </visual> -->
  </link>
  <joint name="keyframe_torso_joint" type="fixed" dont_collapse="true">
    <origin xyz="0 0 0.2" rpy="0 0 0"/>
    <parent link="torso_link"/>
    <child link="keyframe_torso_link"/>
  </joint>
  <link name="keyframe_pelvis_link">
    <!-- <visual>
      <origin xyz="0 0 0" rpy="0 0 0"/>
      <geometry>
        <sphere radius="0.05"/>
      </geometry>
    </visual> -->
  </link>
  <joint name="keyframe_pelvis_joint" type="fixed" dont_collapse="true">
    <origin xyz="0 0 -0.075" rpy="0 0 0"/>
    <parent link="pelvis"/>
    <child link="keyframe_pelvis_link"/>
  </joint>



  <link name="keyframe_left_collar_link">
    <!-- <visual>
      <origin xyz="0 0 0" rpy="0 0 0"/>
      <geometry>
        <sphere radius="0.05"/>
      </geometry>
    </visual> -->
  </link>
  <joint name="keyframe_left_collar_joint" type="fixed" dont_collapse="true">
    <origin xyz="0 0 0.02" rpy="0 0 0"/>
    <parent link="left_shoulder_pitch_link"/>
    <child link="keyframe_left_collar_link"/>
  </joint>
  <link name="keyframe_right_collar_link">
    <!-- <visual>
      <origin xyz="0 0 0" rpy="0 0 0"/>
      <geometry>
        <sphere radius="0.05"/>
      </geometry>
    </visual> -->
  </link>
  <joint name="keyframe_right_collar_joint" type="fixed" dont_collapse="true">
    <origin xyz="0 0 0.02" rpy="0 0 0"/>
    <parent link="right_shoulder_pitch_link"/>
    <child link="keyframe_right_collar_link"/>
  </joint>

  <link name="keyframe_left_shoulder_link">
    <!-- <visual>
      <origin xyz="0 0 0" rpy="0 0 0"/>
      <geometry>
        <sphere radius="0.05"/>
      </geometry>
    </visual> -->
  </link>
  <joint name="keyframe_left_shoulder_joint" type="fixed" dont_collapse="true">
    <origin xyz="0 0 0" rpy="0 0 0"/>
    <parent link="left_shoulder_roll_link"/>
    <child link="keyframe_left_shoulder_link"/>
  </joint>
  <link name="keyframe_right_shoulder_link">
    <!-- <visual>
      <origin xyz="0 0 0" rpy="0 0 0"/>
      <geometry>
        <sphere radius="0.05"/>
      </geometry>
    </visual> -->
  </link>
  <joint name="keyframe_right_shoulder_joint" type="fixed" dont_collapse="true">
    <origin xyz="0 0 0" rpy="0 0 0"/>
    <parent link="right_shoulder_roll_link"/>
    <child link="keyframe_right_shoulder_link"/>
  </joint>
  <link name="keyframe_left_elbow_link">
    <!-- <visual>
      <origin xyz="0 0 0" rpy="0 0 0"/>
      <geometry>
        <sphere radius="0.05"/>
      </geometry>
    </visual> -->
  </link>
  <joint name="keyframe_left_elbow_joint" type="fixed" dont_collapse="true">
    <origin xyz="0 0 0" rpy="0 0 0"/>
    <parent link="left_elbow_link"/>
    <child link="keyframe_left_elbow_link"/>
  </joint>
  <link name="keyframe_right_elbow_link">
    <!-- <visual>
      <origin xyz="0 0 0" rpy="0 0 0"/>
      <geometry>
        <sphere radius="0.05"/>
      </geometry>
    </visual> -->
  </link>
  <joint name="keyframe_right_elbow_joint" type="fixed" dont_collapse="true">
    <origin xyz="0 0 0" rpy="0 0 0"/>
    <parent link="right_elbow_link"/>
    <child link="keyframe_right_elbow_link"/>
  </joint>

  <link name="keyframe_left_wrist_link">
    <!-- <visual>
      <origin xyz="0 0 0" rpy="0 0 0"/>
      <geometry>
        <sphere radius="0.05"/>
      </geometry>
    </visual> -->
  </link>
  <joint name="keyframe_left_wrist_joint" type="fixed" dont_collapse="true">
    <origin xyz="0 0 0" rpy="0 0 0"/>
    <parent link="left_wrist_yaw_link"/>
    <child link="keyframe_left_wrist_link"/>
  </joint>
  <link name="keyframe_right_wrist_link">
    <!-- <visual>
      <origin xyz="0 0 0" rpy="0 0 0"/>
      <geometry>
        <sphere radius="0.05"/>
      </geometry>
    </visual> -->
  </link>
  <joint name="keyframe_right_wrist_joint" type="fixed" dont_collapse="true">
    <origin xyz="0 0 0" rpy="0 0 0"/>
    <parent link="right_wrist_yaw_link"/>
    <child link="keyframe_right_wrist_link"/>
  </joint>

  <link name="keyframe_left_hip_link">
    <!-- <visual>
      <origin xyz="0 0 0" rpy="0 0 0"/>
      <geometry>
        <sphere radius="0.05"/>
      </geometry>
    </visual> -->
  </link>
  <joint name="keyframe_left_hip_joint" type="fixed" dont_collapse="true">
    <origin xyz="0 0 0" rpy="0 0 0"/>
    <parent link="left_hip_roll_link"/>
    <child link="keyframe_left_hip_link"/>
  </joint>
  <link name="keyframe_right_hip_link">
    <!-- <visual>
      <origin xyz="0 0 0" rpy="0 0 0"/>
      <geometry>
        <sphere radius="0.05"/>
      </geometry>
    </visual> -->
  </link>
  <joint name="keyframe_right_hip_joint" type="fixed" dont_collapse="true">
    <origin xyz="0 0 0" rpy="0 0 0"/>
    <parent link="right_hip_roll_link"/>
    <child link="keyframe_right_hip_link"/>
  </joint>
  <link name="keyframe_left_knee_link">
    <!-- <visual>
      <origin xyz="0 0 0" rpy="0 0 0"/>
      <geometry>
        <sphere radius="0.05"/>
      </geometry>
    </visual> -->
  </link>
  <joint name="keyframe_left_knee_joint" type="fixed" dont_collapse="true">
    <origin xyz="0 0 0" rpy="0 0 0"/>
    <parent link="left_knee_link"/>
    <child link="keyframe_left_knee_link"/>
  </joint>
  <link name="keyframe_right_knee_link">
    <!-- <visual>
      <origin xyz="0 0 0" rpy="0 0 0"/>
      <geometry>
        <sphere radius="0.05"/>
      </geometry>
    </visual> -->
  </link>
  <joint name="keyframe_right_knee_joint" type="fixed" dont_collapse="true">
    <origin xyz="0 0 0" rpy="0 0 0"/>
    <parent link="right_knee_link"/>
    <child link="keyframe_right_knee_link"/>
  </joint>
  <link name="keyframe_left_ankle_link">
    <!-- <visual>
      <origin xyz="0 0 0" rpy="0 0 0"/>
      <geometry>
        <sphere radius="0.05"/>
      </geometry>
    </visual> -->
  </link>
  <joint name="keyframe_left_ankle_joint" type="fixed" dont_collapse="true">
    <origin xyz="0 0 0" rpy="0 0 0"/>
    <parent link="left_ankle_roll_link"/>
    <child link="keyframe_left_ankle_link"/>
  </joint>
  <link name="keyframe_right_ankle_link">
    <!-- <visual>
      <origin xyz="0 0 0" rpy="0 0 0"/>
      <geometry>
        <sphere radius="0.05"/>
      </geometry>
    </visual> -->
  </link>
  <joint name="keyframe_right_ankle_joint" type="fixed" dont_collapse="true">
    <origin xyz="0 0 0" rpy="0 0 0"/>
    <parent link="right_ankle_roll_link"/>
    <child link="keyframe_right_ankle_link"/>
  </joint>


  <!-- Auxiliary -->
  <link name="auxiliary_right_ankle_roll_link1">
    <visual>
      <origin xyz="0 0 0" rpy="0 0 0"/>
      <geometry>
        <sphere radius="0.01"/>
      </geometry>
    </visual>
  </link>
  <joint name="auxiliary_right_ankle_roll_joint1" type="fixed" dont_collapse="true">
    <origin xyz="0.035 0.08 0" rpy="0 0 0"/>
    <parent link="right_ankle_roll_link"/>
    <child link="auxiliary_right_ankle_roll_link1"/>
  </joint>
  <link name="auxiliary_right_ankle_roll_link2">
    <visual>
      <origin xyz="0 0 0" rpy="0 0 0"/>
      <geometry>
        <sphere radius="0.01"/>
      </geometry>
    </visual>
  </link>
  <joint name="auxiliary_right_ankle_roll_joint2" type="fixed" dont_collapse="true">
    <origin xyz="0.035 -0.08 0" rpy="0 0 0"/>
    <parent link="right_ankle_roll_link"/>
    <child link="auxiliary_right_ankle_roll_link2"/>
  </joint>

  <link name="auxiliary_right_ankle_roll_link3">
    <visual>
      <origin xyz="0 0 0" rpy="0 0 0"/>
      <geometry>
        <sphere radius="0.01"/>
      </geometry>
    </visual>
  </link>
  <joint name="auxiliary_right_ankle_roll_joint3" type="fixed" dont_collapse="true">
    <origin xyz="0.2 0 0" rpy="0 0 0"/>
    <parent link="right_ankle_roll_link"/>
    <child link="auxiliary_right_ankle_roll_link3"/>
  </joint>
  <link name="auxiliary_right_ankle_roll_link4">
    <visual>
      <origin xyz="0 0 0" rpy="0 0 0"/>
      <geometry>
        <sphere radius="0.01"/>
      </geometry>
    </visual>
  </link>
  <joint name="auxiliary_right_ankle_roll_joint4" type="fixed" dont_collapse="true">
    <origin xyz="-0.15 0 0" rpy="0 0 0"/>
    <parent link="right_ankle_roll_link"/>
    <child link="auxiliary_right_ankle_roll_link4"/>
  </joint>

  <link name="auxiliary_left_ankle_roll_link1">
    <visual>
      <origin xyz="0 0 0" rpy="0 0 0"/>
      <geometry>
        <sphere radius="0.01"/>
      </geometry>
    </visual>
  </link>
  <joint name="auxiliary_left_ankle_roll_joint1" type="fixed" dont_collapse="true">
    <origin xyz="0.035 0.08 0" rpy="0 0 0"/>
    <parent link="left_ankle_roll_link"/>
    <child link="auxiliary_left_ankle_roll_link1"/>
  </joint>
  <link name="auxiliary_left_ankle_roll_link2">
    <visual>
      <origin xyz="0 0 0" rpy="0 0 0"/>
      <geometry>
        <sphere radius="0.01"/>
      </geometry>
    </visual>
  </link>
  <joint name="auxiliary_left_ankle_roll_joint2" type="fixed" dont_collapse="true">
    <origin xyz="0.035 -0.08 0" rpy="0 0 0"/>
    <parent link="left_ankle_roll_link"/>
    <child link="auxiliary_left_ankle_roll_link2"/>
  </joint>

  <link name="auxiliary_left_ankle_roll_link3">
    <visual>
      <origin xyz="0 0 0" rpy="0 0 0"/>
      <geometry>
        <sphere radius="0.01"/>
      </geometry>
    </visual>
  </link>
  <joint name="auxiliary_left_ankle_roll_joint3" type="fixed" dont_collapse="true">
    <origin xyz="0.2 0 0" rpy="0 0 0"/>
    <parent link="left_ankle_roll_link"/>
    <child link="auxiliary_left_ankle_roll_link3"/>
  </joint>
  <link name="auxiliary_left_ankle_roll_link4">
    <visual>
      <origin xyz="0 0 0" rpy="0 0 0"/>
      <geometry>
        <sphere radius="0.01"/>
      </geometry>
    </visual>
  </link>
  <joint name="auxiliary_left_ankle_roll_joint4" type="fixed" dont_collapse="true">
    <origin xyz="-0.15 0 0" rpy="0 0 0"/>
    <parent link="left_ankle_roll_link"/>
    <child link="auxiliary_left_ankle_roll_link4"/>
  </joint>

  <link name="left_foot_front_link" />
  <joint name="left_foot_front_joint" type="fixed" dont_collapse="true">
    <origin xyz="0.18 0 -0.06" rpy="0 0 0" />
    <parent link="left_ankle_pitch_link" />
    <child link="left_foot_front_link" />
  </joint>

  <link name="left_foot_mid_link" />
  <joint name="left_foot_mid_joint" type="fixed" dont_collapse="true">
    <origin xyz="0.0 0 -0.06" rpy="0 0 0" />
    <parent link="left_ankle_pitch_link" />
    <child link="left_foot_mid_link" />
  </joint>

  <link name="left_foot_hind_link" />
  <joint name="left_foot_hind_joint" type="fixed" dont_collapse="true">
    <origin xyz="-0.09 0 -0.06" rpy="0 0 0" />
    <parent link="left_ankle_pitch_link" />
    <child link="left_foot_hind_link" />
  </joint>

  <link name="right_foot_front_link" />
  <joint name="right_foot_front_joint" type="fixed" dont_collapse="true">
    <origin xyz="0.18 0 -0.06" rpy="0 0 0" />
    <parent link="right_ankle_pitch_link" />
    <child link="right_foot_front_link" />
  </joint>

  <link name="right_foot_mid_link" />
  <joint name="right_foot_mid_joint" type="fixed" dont_collapse="true">
    <origin xyz="0.0 0 -0.06" rpy="0 0 0" />
    <parent link="right_ankle_pitch_link" />
    <child link="right_foot_mid_link" />
  </joint>

  <link name="right_foot_hind_link" />
  <joint name="right_foot_hind_joint" type="fixed" dont_collapse="true">
    <origin xyz="-0.09 0 -0.06" rpy="0 0 0" />
    <parent link="right_ankle_pitch_link" />
    <child link="right_foot_hind_link" />
  </joint>

</robot>
